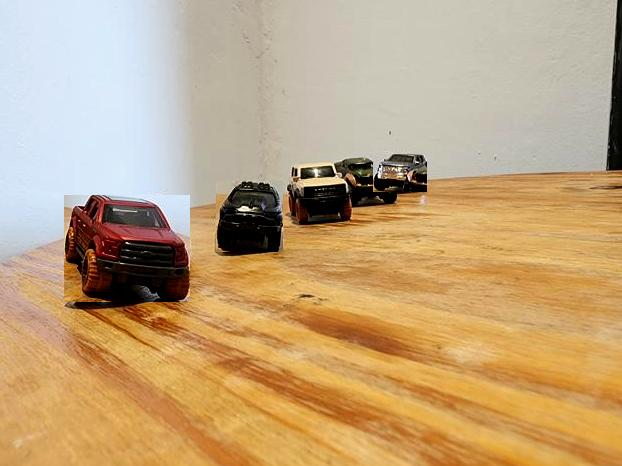toy-car: (65, 196, 191, 303), (217, 181, 284, 252), (286, 163, 351, 225), (335, 158, 397, 207), (373, 155, 427, 193)
